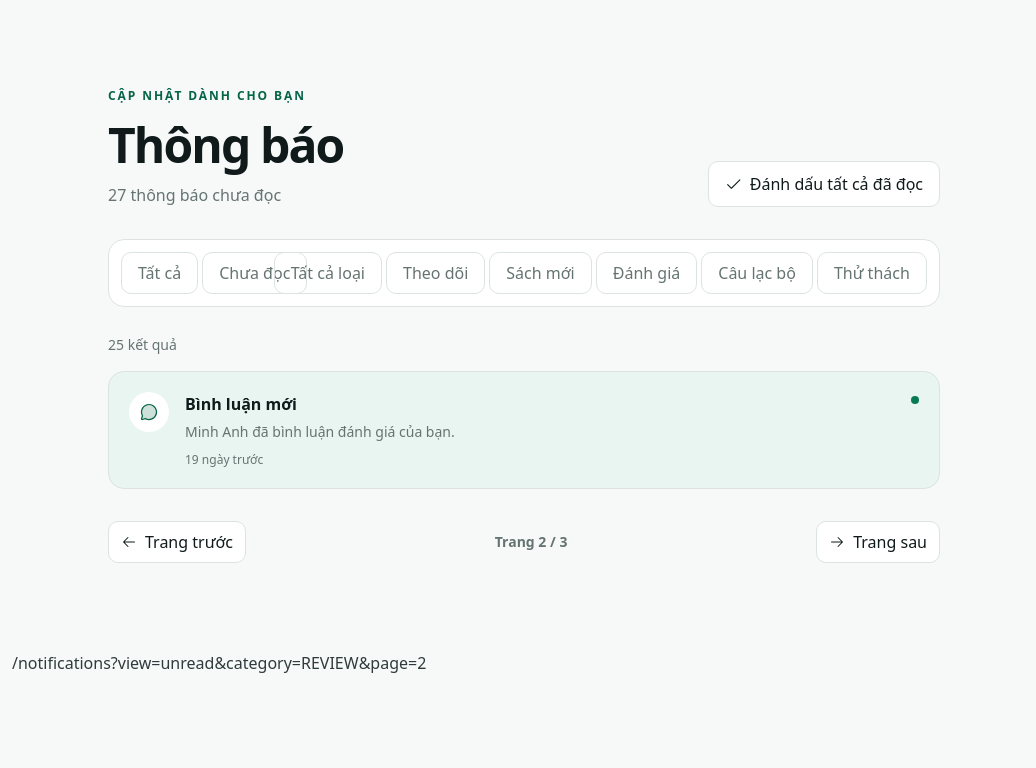
Test case: notification center v2 › uses server unread count and URL-backed status, category and pagination
Expected: the text "27 thông báo chưa đọc" is shown, 108,184 -> 281,206
Step 1. Click the button "Trang sau" → x=878, y=542, box 816,521 -> 940,563
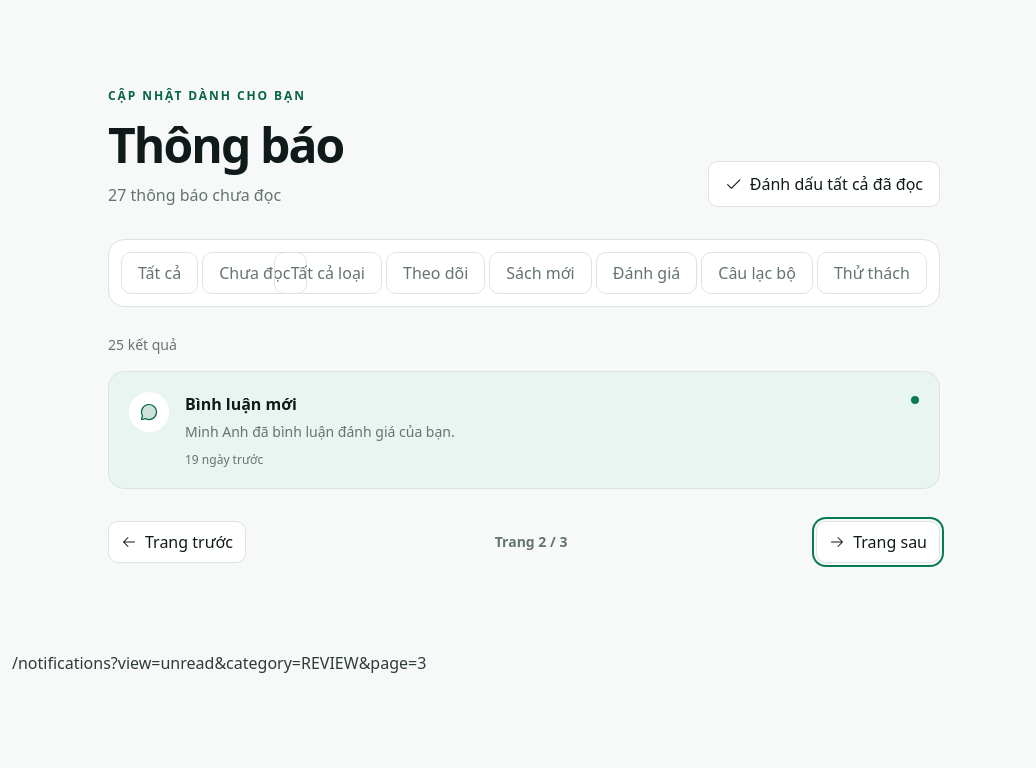
Result: the text with test id "location" reads "/notifications?view=unread&category=REVIEW&page=3" at 12,652 -> 426,674
